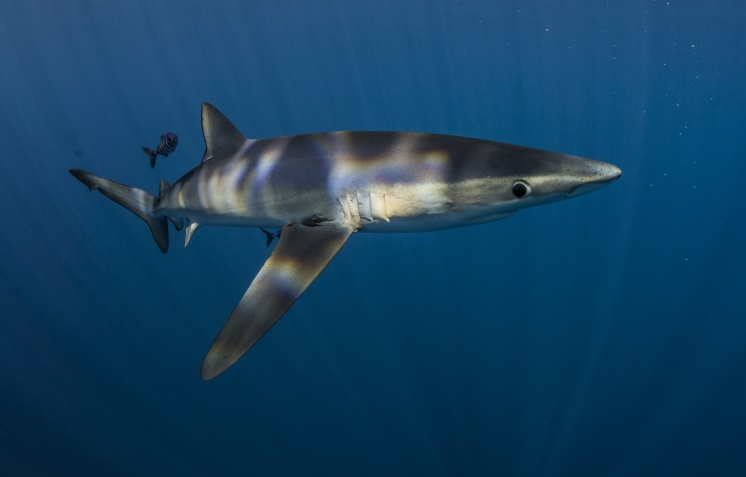Azul: (54, 89, 626, 386)
